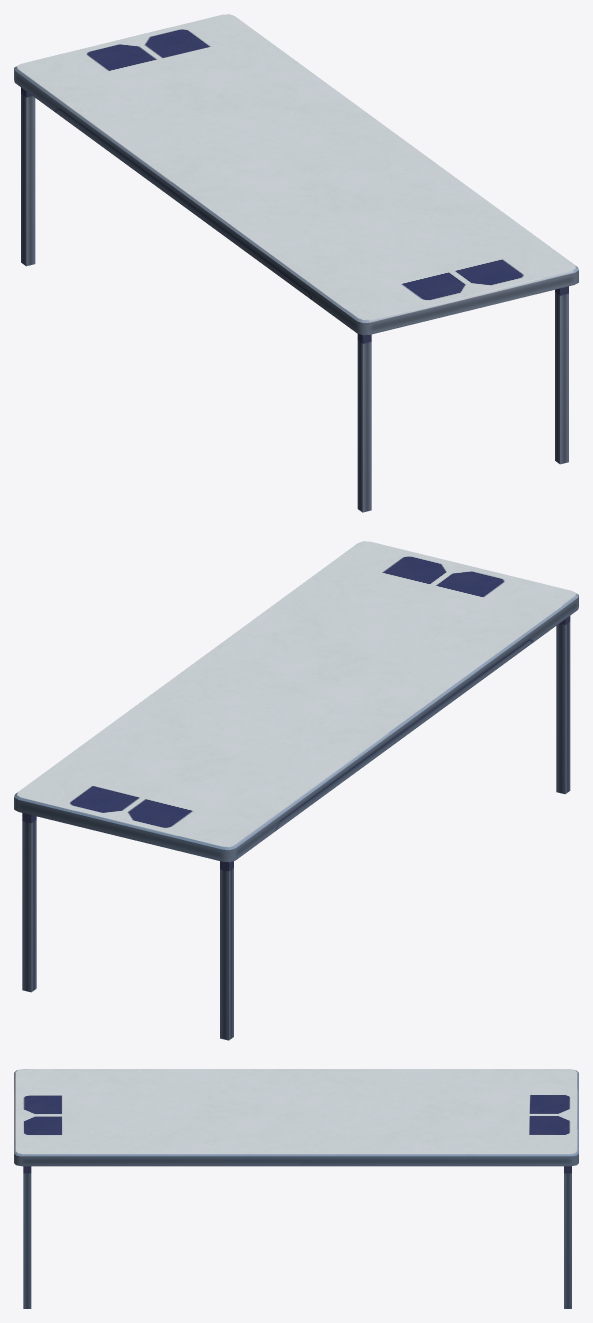
File: mesa1.fbx
3 views of the same model, one above another, from view 1: azimuth 30°, elevation 25°; view 2: azimuth 150°, elevation 25°; view 3: azimuth 270°, elevation 25° (orthographic). The views are drawn at different scales.
Visible parts, largest first — view 1: mesa1; view 2: mesa1; view 3: mesa1.
Part boxes in pixels (x1,y1,x2,y2): mesa1: (14, 14, 578, 512); mesa1: (14, 541, 578, 1040); mesa1: (14, 1069, 578, 1308).
Size of the model in its own units: 106 by 90.12 by 294.
1 material, 1 textured.
